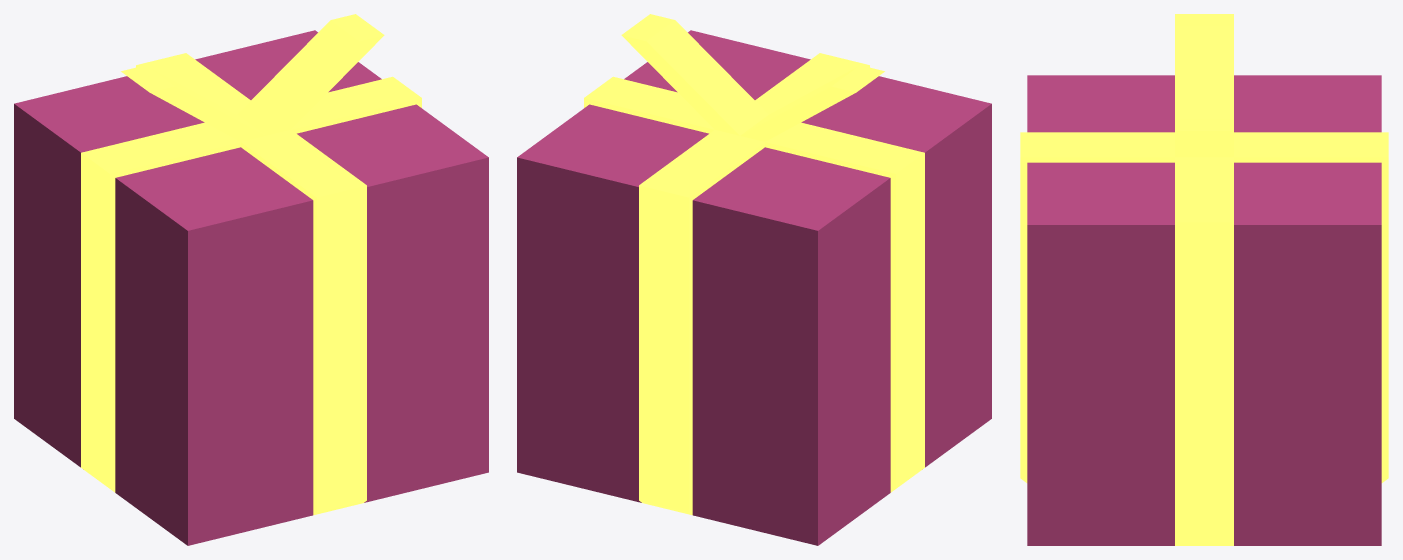
The model's file is gift.fbx.
3 renders of one model, left to right at view 1: azimuth 30°, elevation 25°; view 2: azimuth 150°, elevation 25°; view 3: azimuth 270°, elevation 25°, orthographic.
Parts seen in each view (by area): view 1: Cube.023; view 2: Cube.023; view 3: Cube.023.
Boxes of the visible parts, x1=… form: Cube.023: x1=14, y1=14, x2=488, y2=545; Cube.023: x1=517, y1=14, x2=991, y2=545; Cube.023: x1=1020, y1=14, x2=1388, y2=545.
Size of the model in its own units: 0.209 by 0.2512 by 0.2101.
